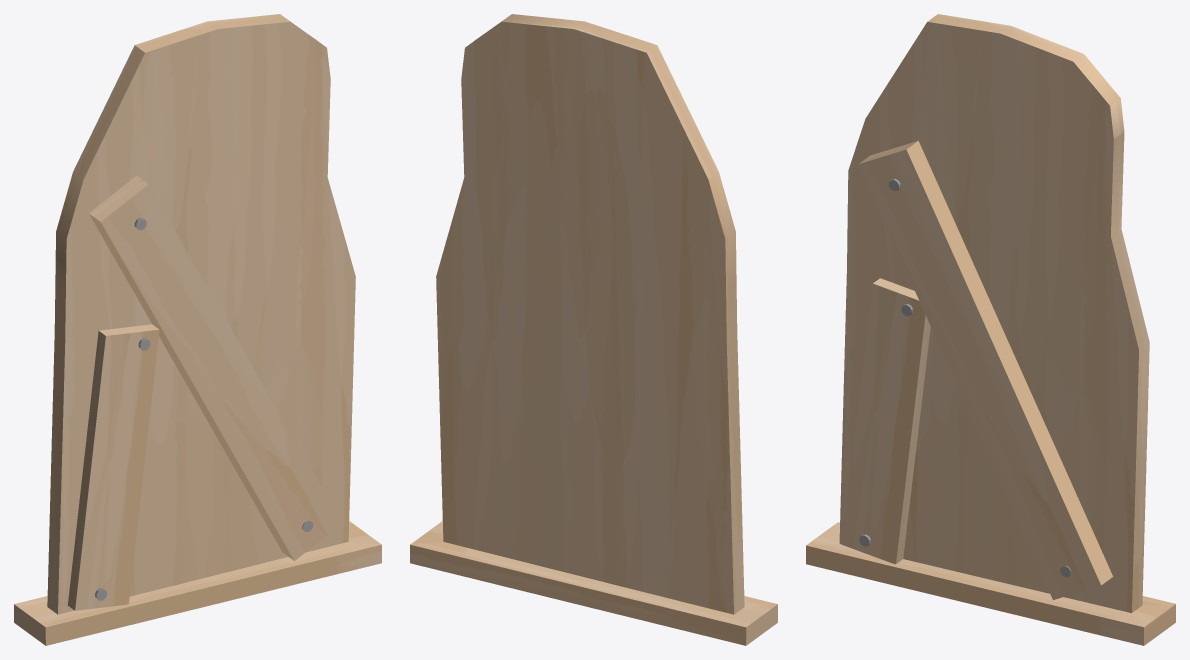
The model's file is cutout_tall2.fbx.
The picture shows the model from 3 angles, left to right: view 1: azimuth 30°, elevation 25°; view 2: azimuth 150°, elevation 25°; view 3: azimuth 330°, elevation 25°; orthographic projection.
Parts seen in each view (by area): view 1: pasted__pCylinder1; view 2: pasted__pCylinder1; view 3: pasted__pCylinder1.
Part boxes in pixels (bbox=[...]): pasted__pCylinder1: bbox=[14, 14, 381, 645]; pasted__pCylinder1: bbox=[410, 14, 777, 645]; pasted__pCylinder1: bbox=[806, 14, 1175, 645].
Size of the model in its own units: 364 by 584 by 67.24.
